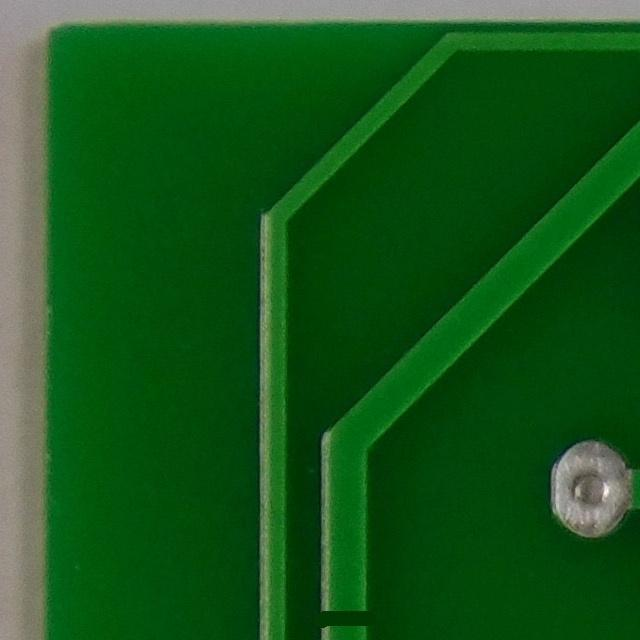open_circuit: (301, 590, 393, 637)
